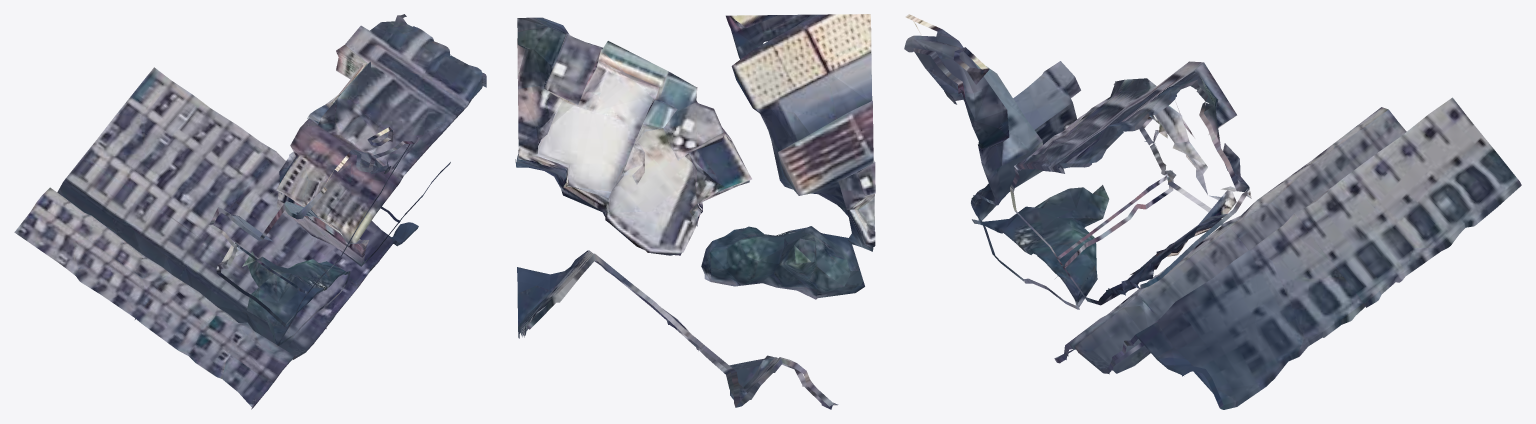
The picture shows the model from 3 angles, left to right: view 1: azimuth 30°, elevation 25°; view 2: azimuth 150°, elevation 25°; view 3: azimuth 270°, elevation 25°; orthographic projection. The views are drawn at different scales.
Bounding box in the file's own units: 50.56 × 40.79 × 55.26.
Materials: 1 (1 with a texture image).
